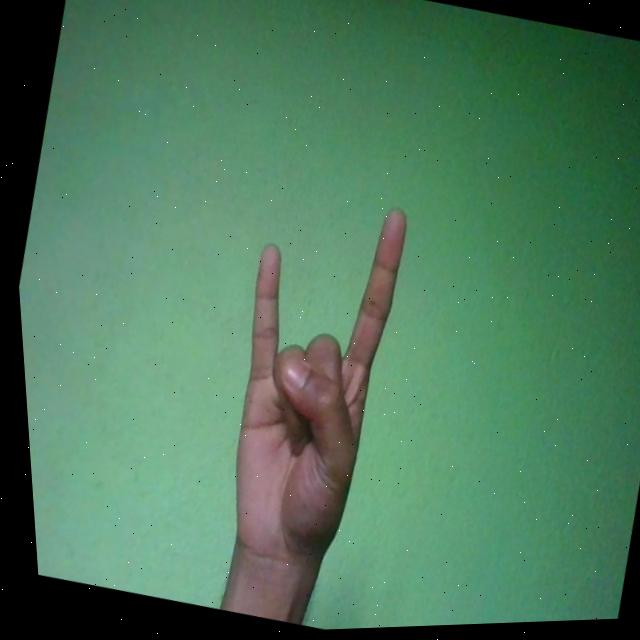Rock On: (183, 181, 426, 591)
